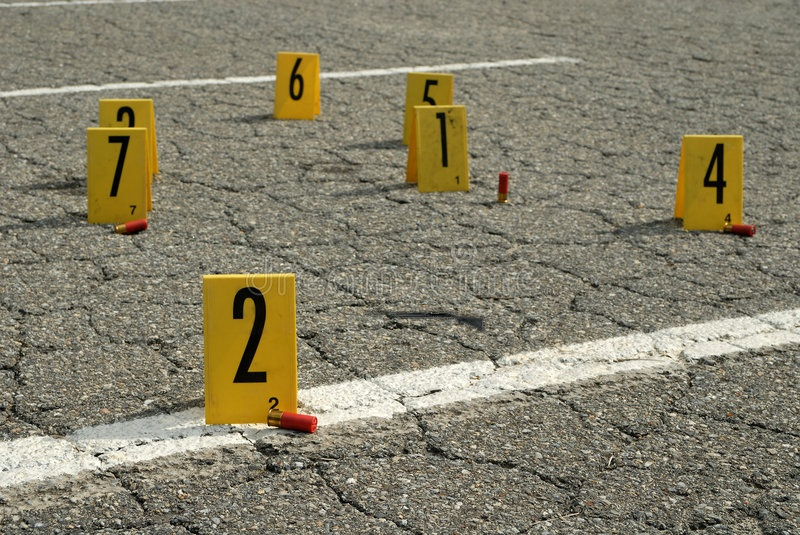escopeta.png: (362, 306, 489, 331)
